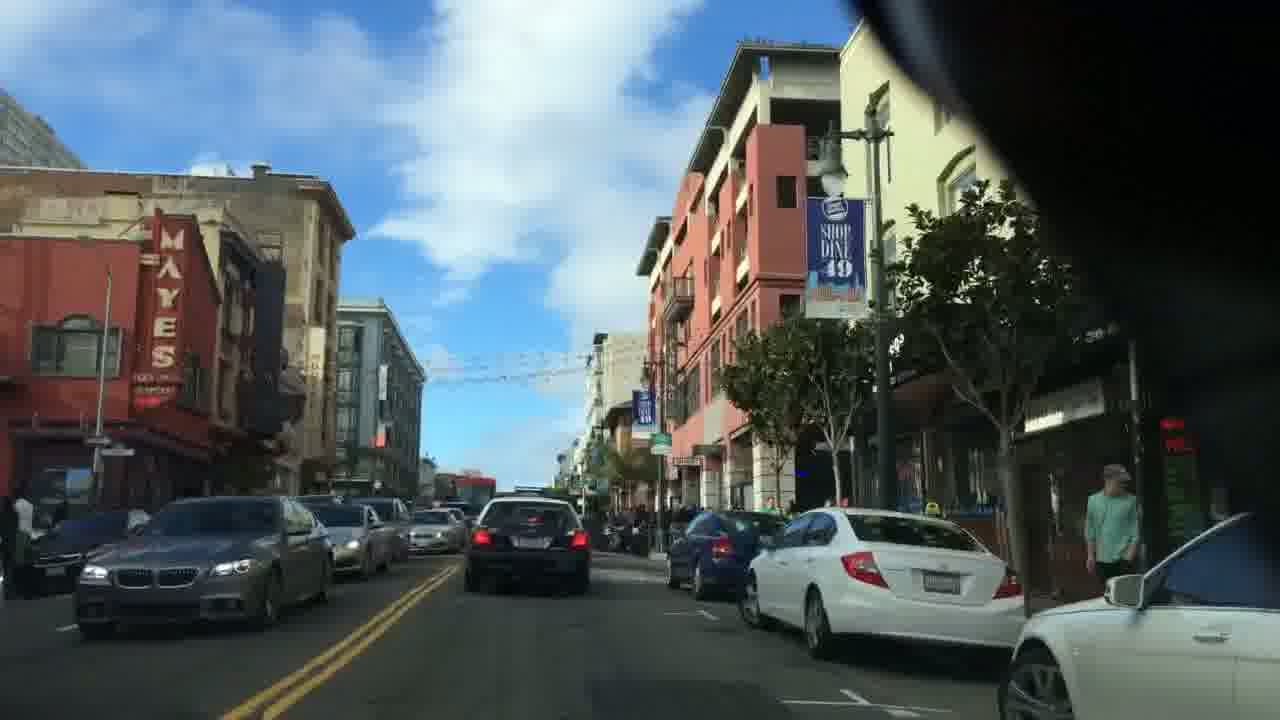car: (996, 508, 1280, 720), (735, 505, 1028, 660), (72, 494, 336, 640), (462, 495, 591, 595), (663, 509, 790, 599), (311, 501, 394, 578), (407, 506, 466, 553)
pedestrian: (1082, 461, 1142, 586)
